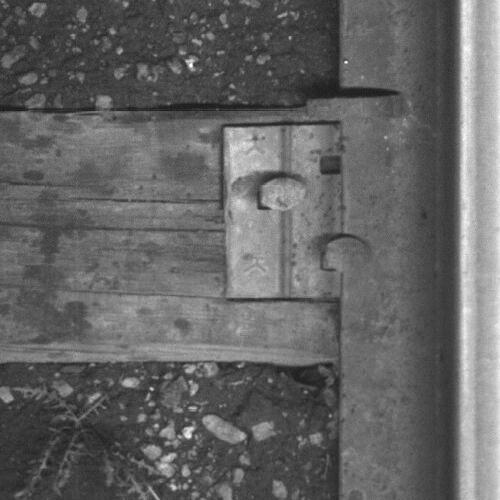crutch: (307, 90, 409, 120)
do: (221, 124, 372, 299)
hole_do: (308, 146, 353, 181)
rail: (457, 1, 500, 500)
tie_wood: (1, 111, 340, 358)
wood_crack: (1, 191, 224, 238)
